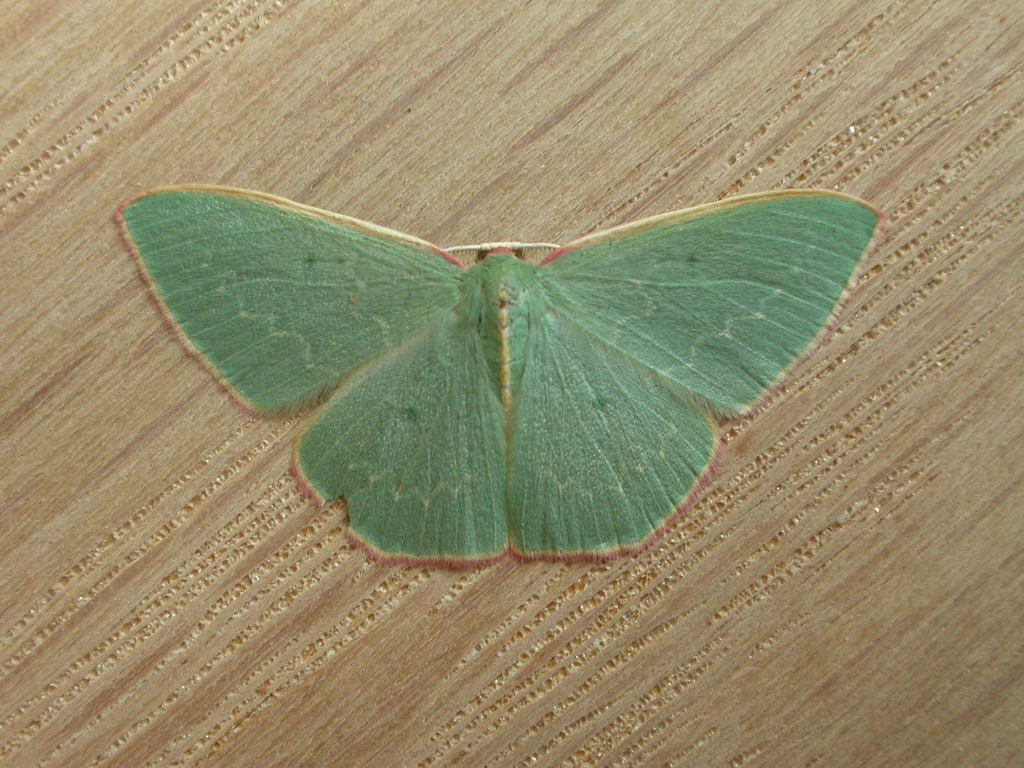Butterfly: (117, 131, 885, 600)
